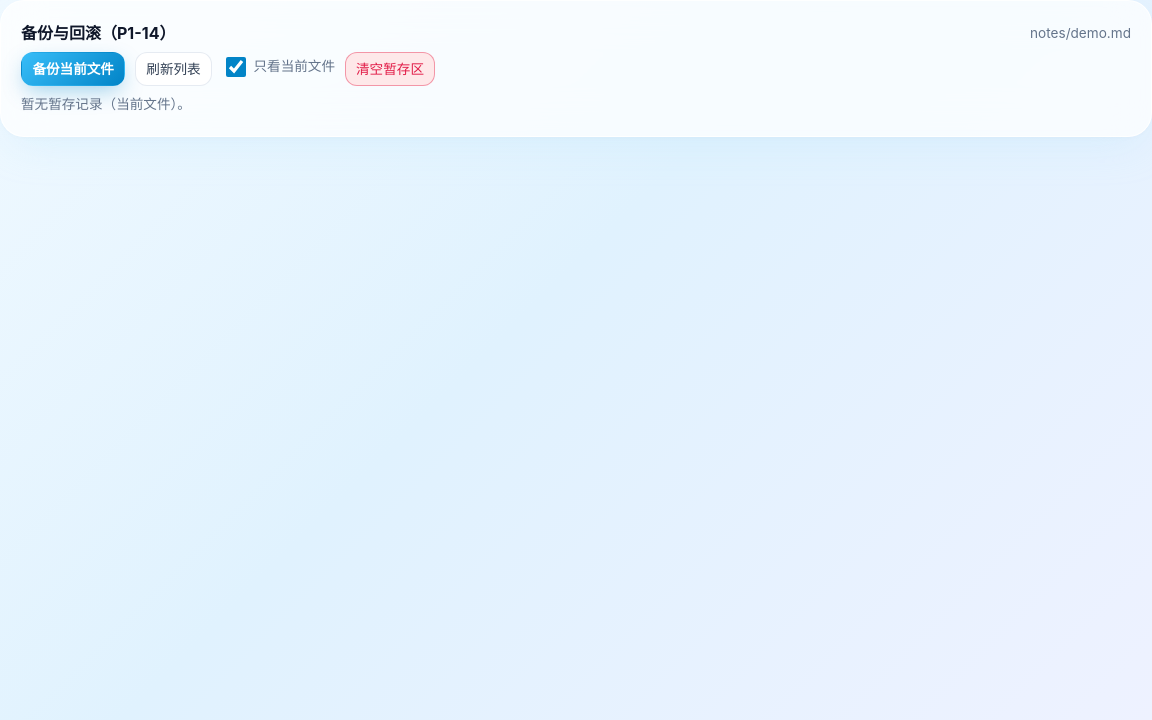
Test: 备份当前文件 › 二进制文件拒绝备份
Click the button with test id "backup-btn": (73, 69) [21,52,125,86]
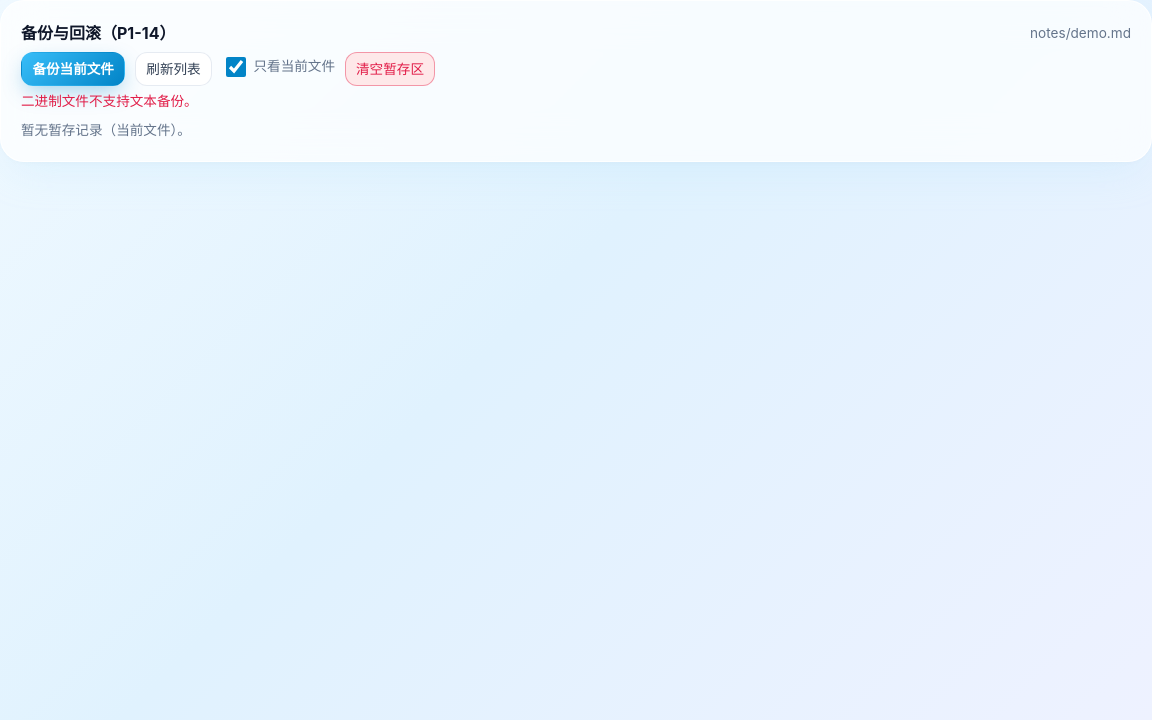
Now the text "二进制文件不支持文本备份。" is shown, box [21,93,198,109]
